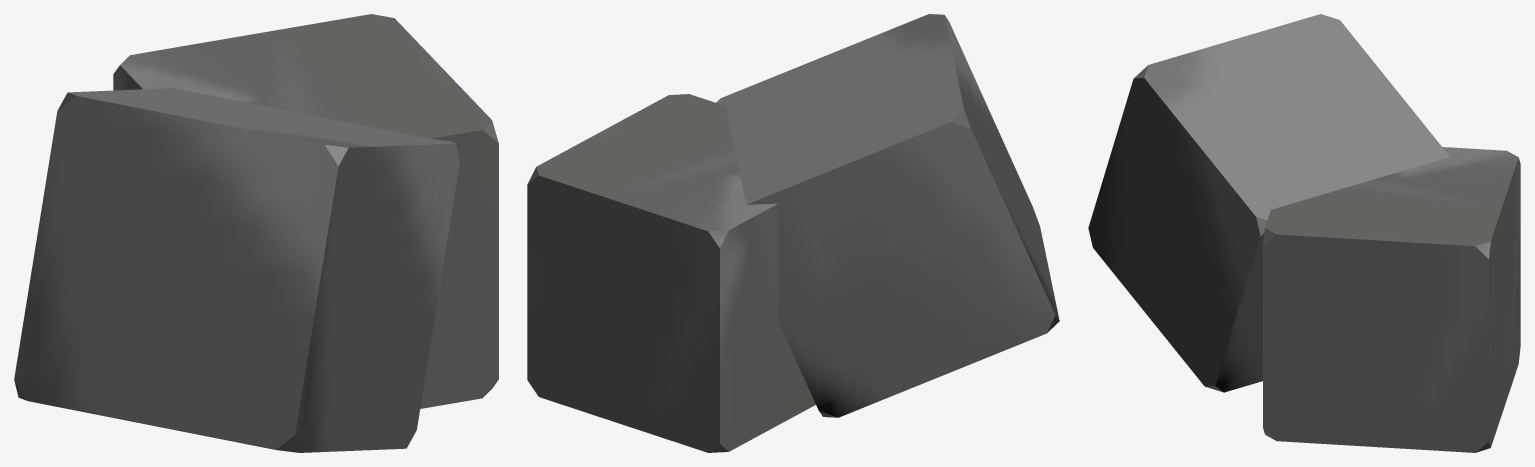
File: Building_StoneCubeSculpture__B.obj
The picture shows the model from 3 angles, left to right: view 1: azimuth 30°, elevation 25°; view 2: azimuth 150°, elevation 25°; view 3: azimuth 270°, elevation 25°; orthographic projection. The views are drawn at different scales.
Parts seen in each view (by area): view 1: Body; view 2: Body; view 3: Body.
Boxes of the visible parts, x1,y1,x2,y2 form: Body: (14, 14, 498, 452); Body: (527, 14, 1059, 452); Body: (1088, 14, 1520, 452).
Bounding box in the file's own units: 0.8299 × 0.5728 × 0.796.
Materials: 1 (1 with a texture image).
